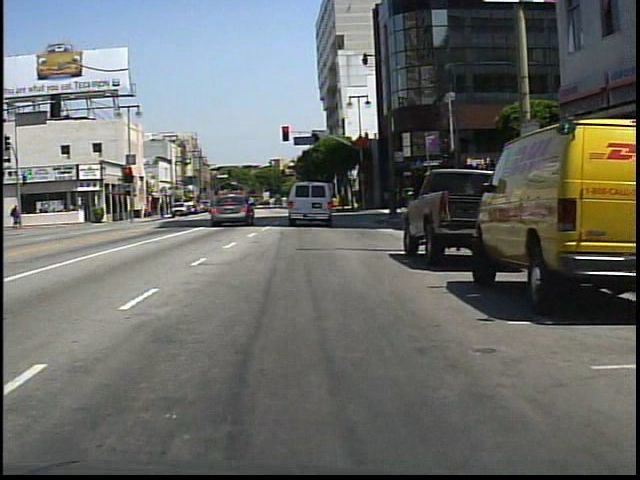person: (290, 189, 309, 222), (9, 202, 24, 230), (245, 194, 259, 220)
